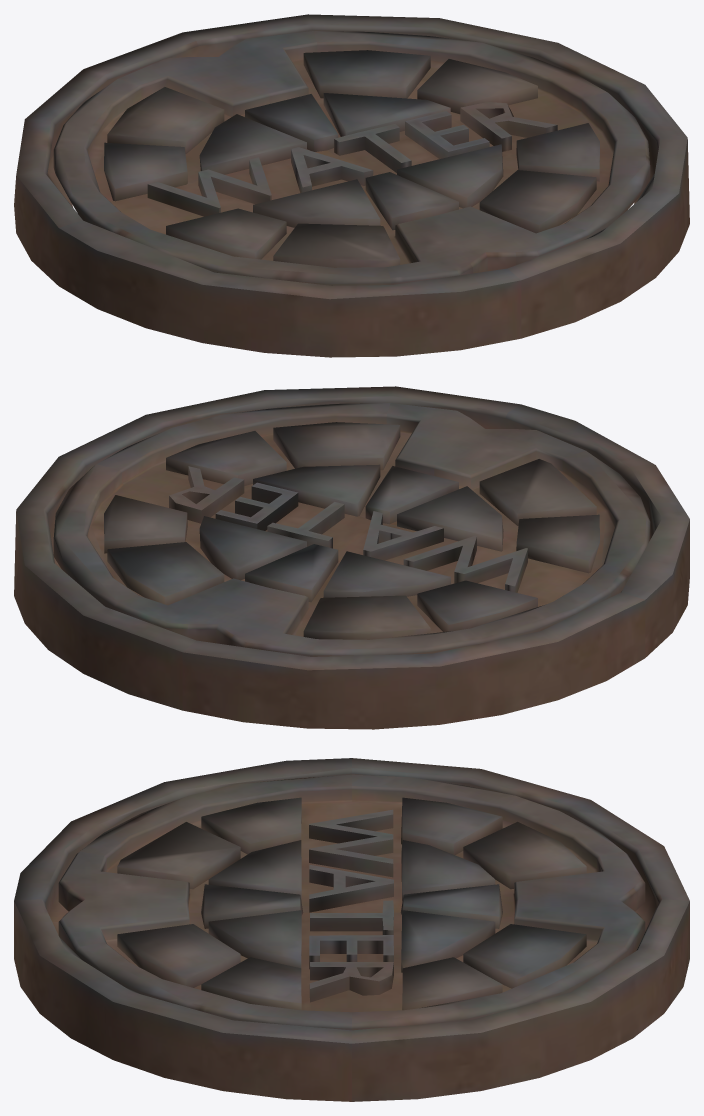
Rendered from manhole.glb.
The picture shows the model from 3 angles, top to bottom: view 1: azimuth 30°, elevation 25°; view 2: azimuth 150°, elevation 25°; view 3: azimuth 270°, elevation 25°; orthographic projection.
Visible parts, largest first — view 1: water_manhole_cover, water_manhole_cover_frame; view 2: water_manhole_cover, water_manhole_cover_frame; view 3: water_manhole_cover, water_manhole_cover_frame.
Boxes of the visible parts, x1,y1,x2,y2 form: water_manhole_cover: [53, 31, 650, 285]; water_manhole_cover_frame: [14, 14, 689, 357]; water_manhole_cover: [53, 403, 650, 656]; water_manhole_cover_frame: [14, 386, 689, 729]; water_manhole_cover: [58, 774, 645, 1030]; water_manhole_cover_frame: [14, 758, 689, 1101].
Bounding box in the file's own units: 0.6908 × 0.0676 × 0.6908.
Materials: 1 (1 with a texture image).
